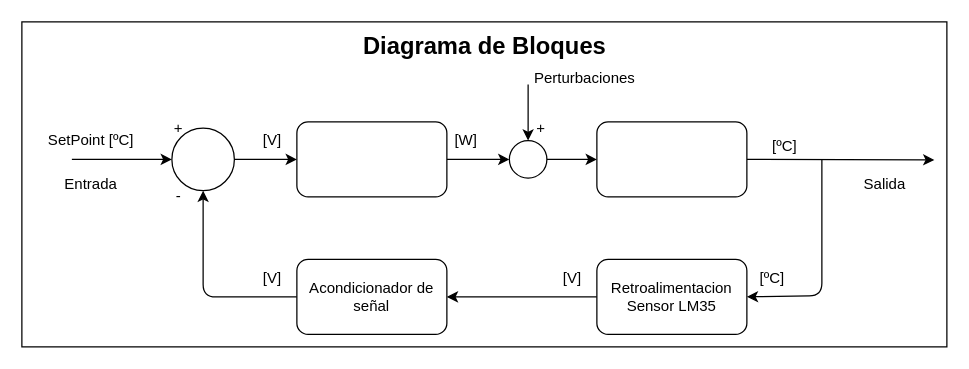
The diagram is 969 pixels wide and 369 high, and some of its shapes have lost their labels. The shapes that lost their labels are listed below. From the top down, each one's centre as x and y in pixels, then its label:
(x=371, y=159): Actuador Rele
(x=671, y=159): Planta Horno Electrico
